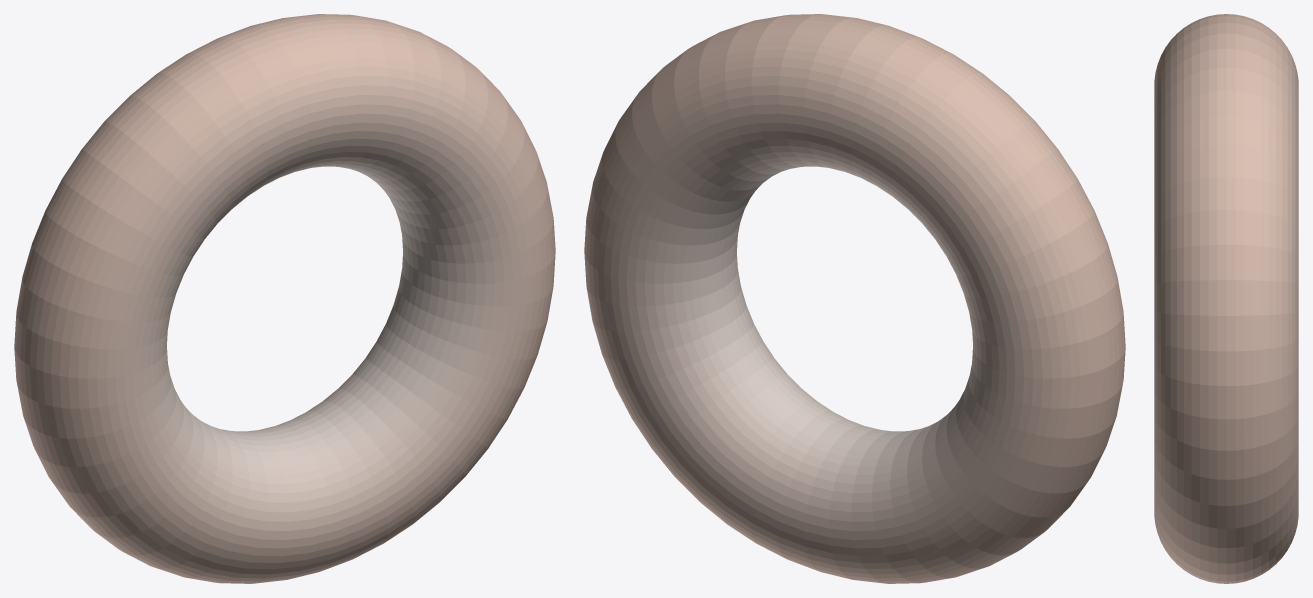
3 views of the same model, side by side, from view 1: azimuth 30°, elevation 25°; view 2: azimuth 150°, elevation 25°; view 3: azimuth 270°, elevation 25° (orthographic). The views are drawn at different scales.
Visible parts, largest first — view 1: world; view 2: world; view 3: world.
Part boxes in pixels (x1,y1,x2,y2): world: (14,14,555,583); world: (584,14,1125,583); world: (1154,14,1298,583).
Size of the model in its own units: 26.8 by 26.75 by 6.79.
